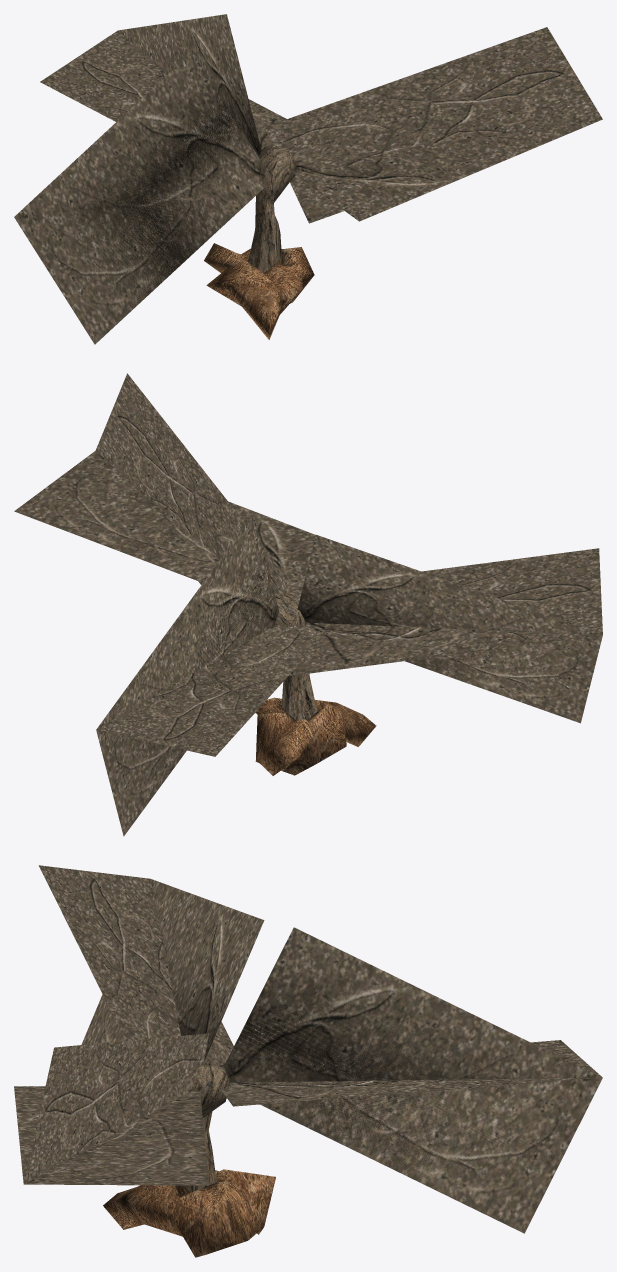
Rendered from shrb_dath_remmy_l0.fbx.
3 views of the same model, one above another, from view 1: azimuth 30°, elevation 25°; view 2: azimuth 150°, elevation 25°; view 3: azimuth 270°, elevation 25° (orthographic). The views are drawn at different scales.
Parts seen in each view (by area): view 1: mesh_node; view 2: mesh_node; view 3: mesh_node.
Part boxes in pixels (x1,y1,x2,y2): mesh_node: (14, 14, 602, 344); mesh_node: (14, 373, 602, 836); mesh_node: (14, 865, 602, 1257).
Bounding box in the file's own units: 4.36 × 2.19 × 3.47.
